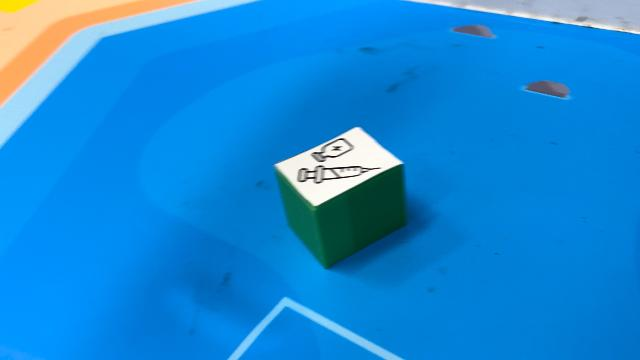syringe: (274, 126, 408, 270)
